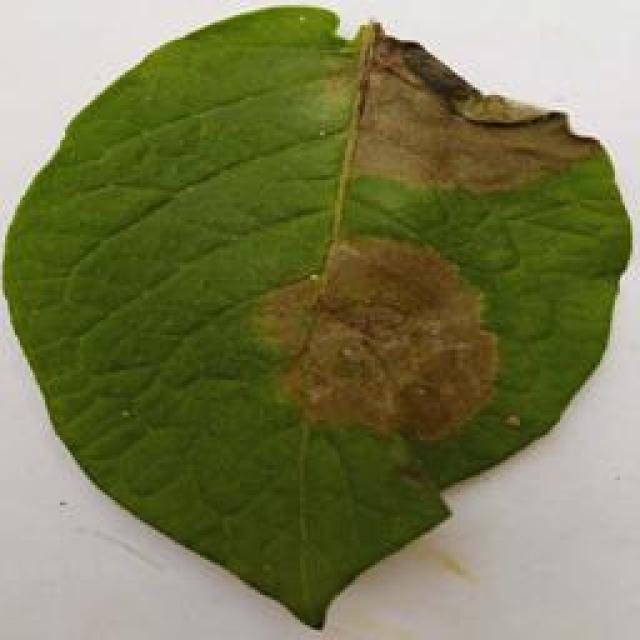Potato_Late_Blight: (6, 8, 633, 632)
